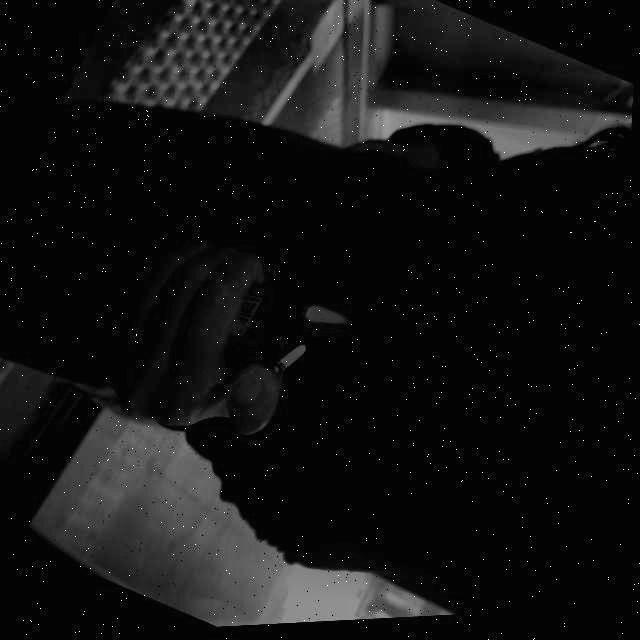Fire: (309, 303, 362, 345)
